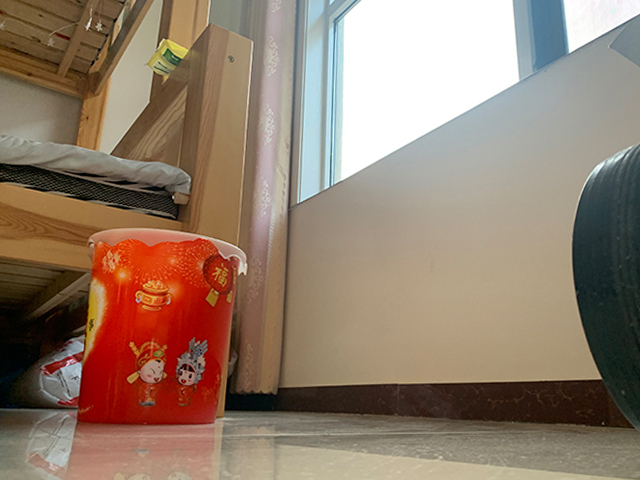bed: (1, 1, 253, 363)
curtain: (231, 1, 295, 394)
trashcan: (75, 226, 249, 425)
